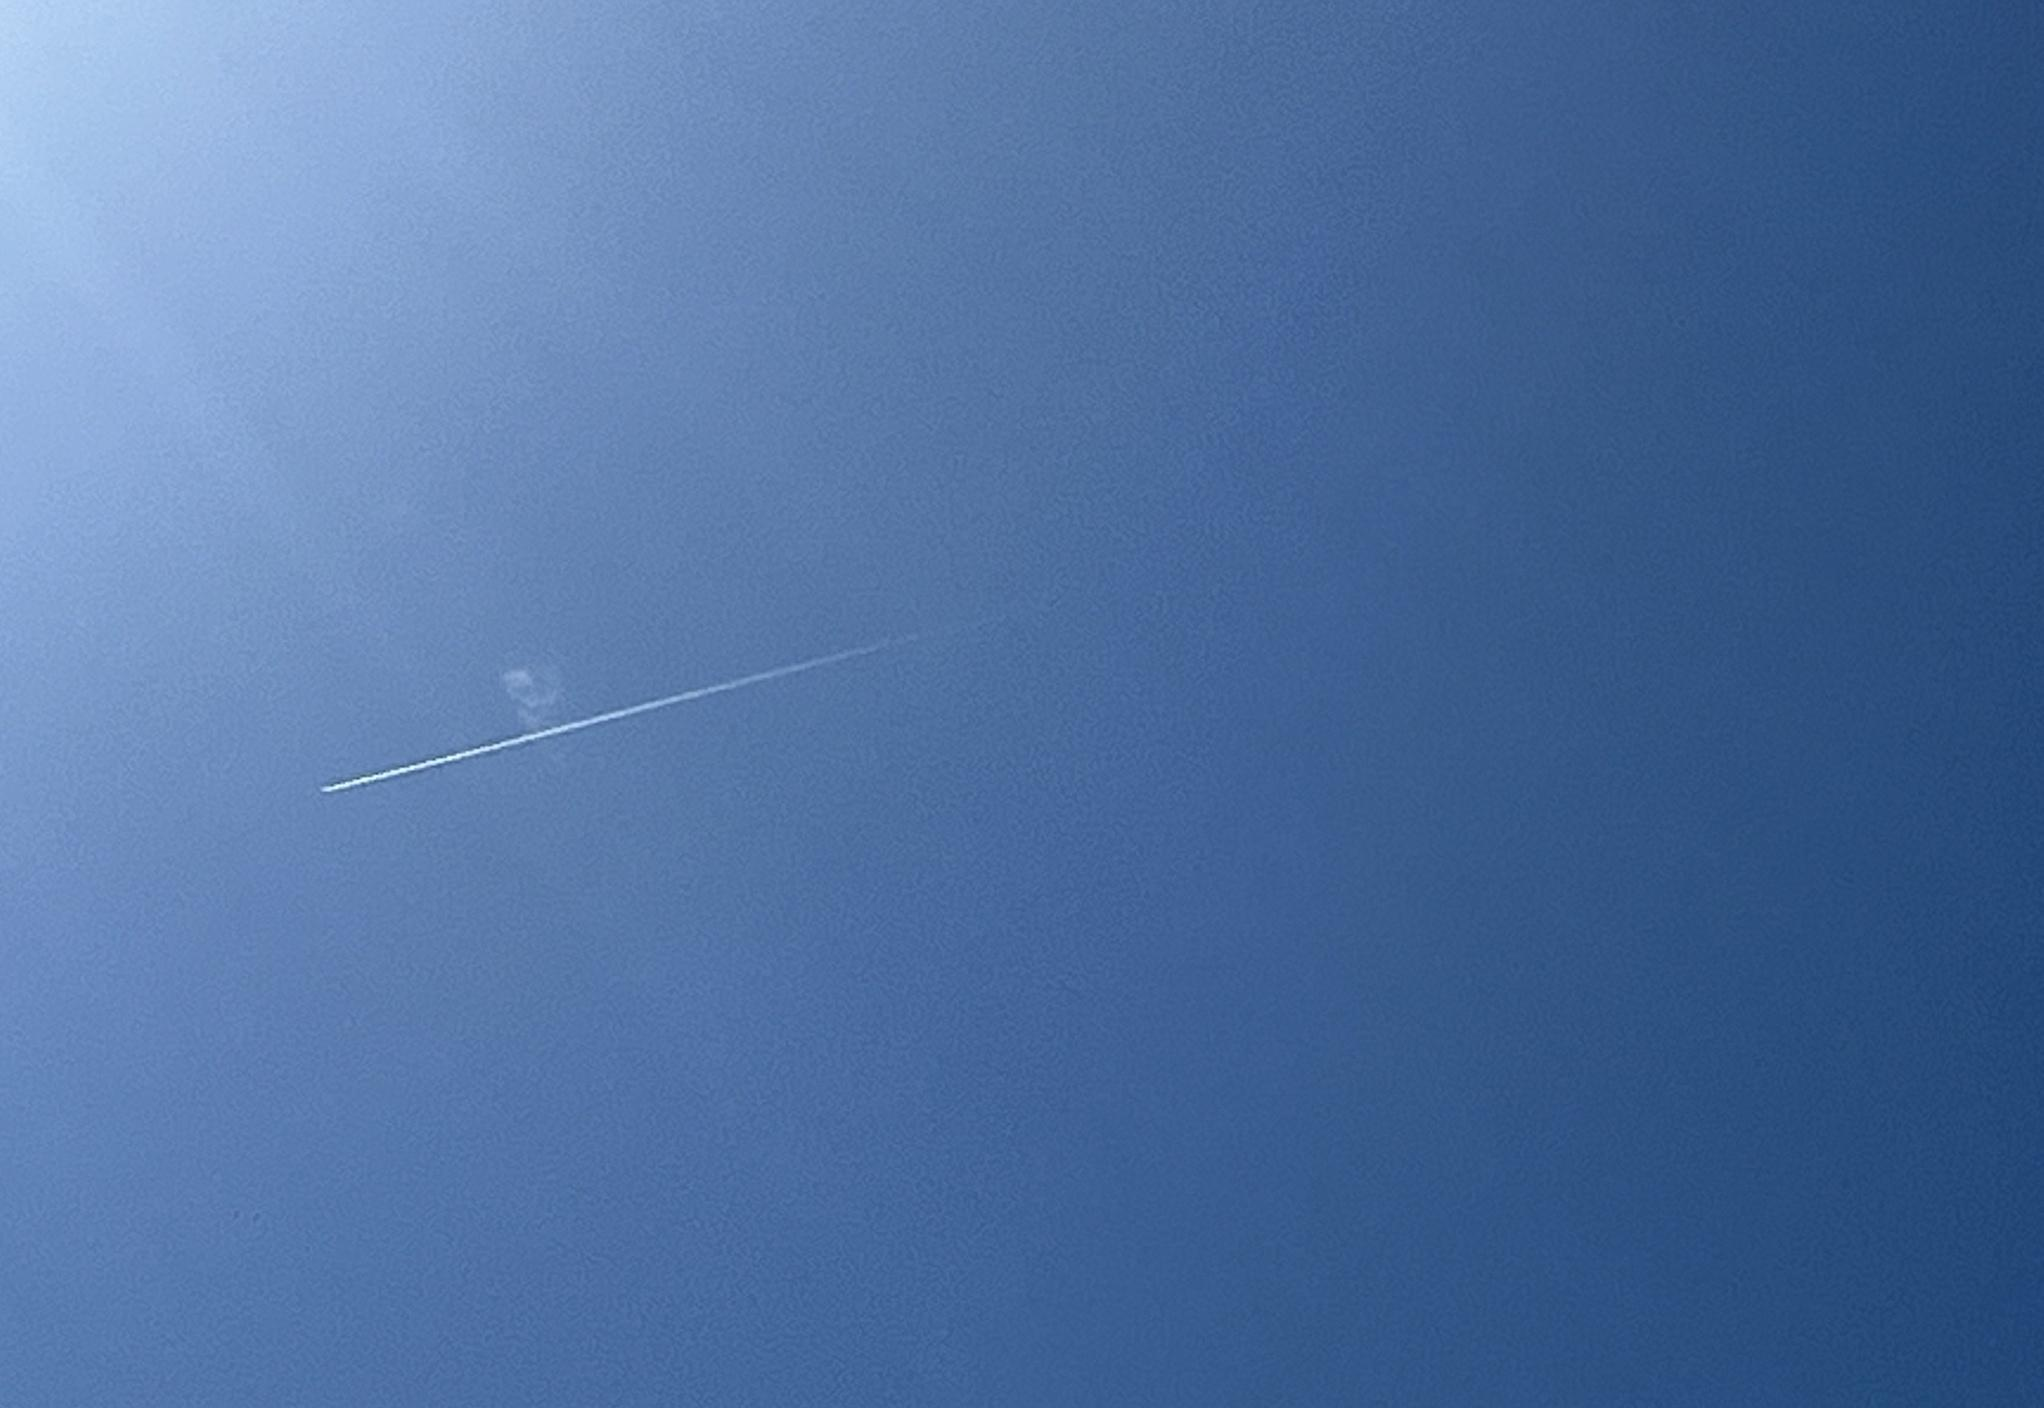Plane: (290, 623, 954, 818)
